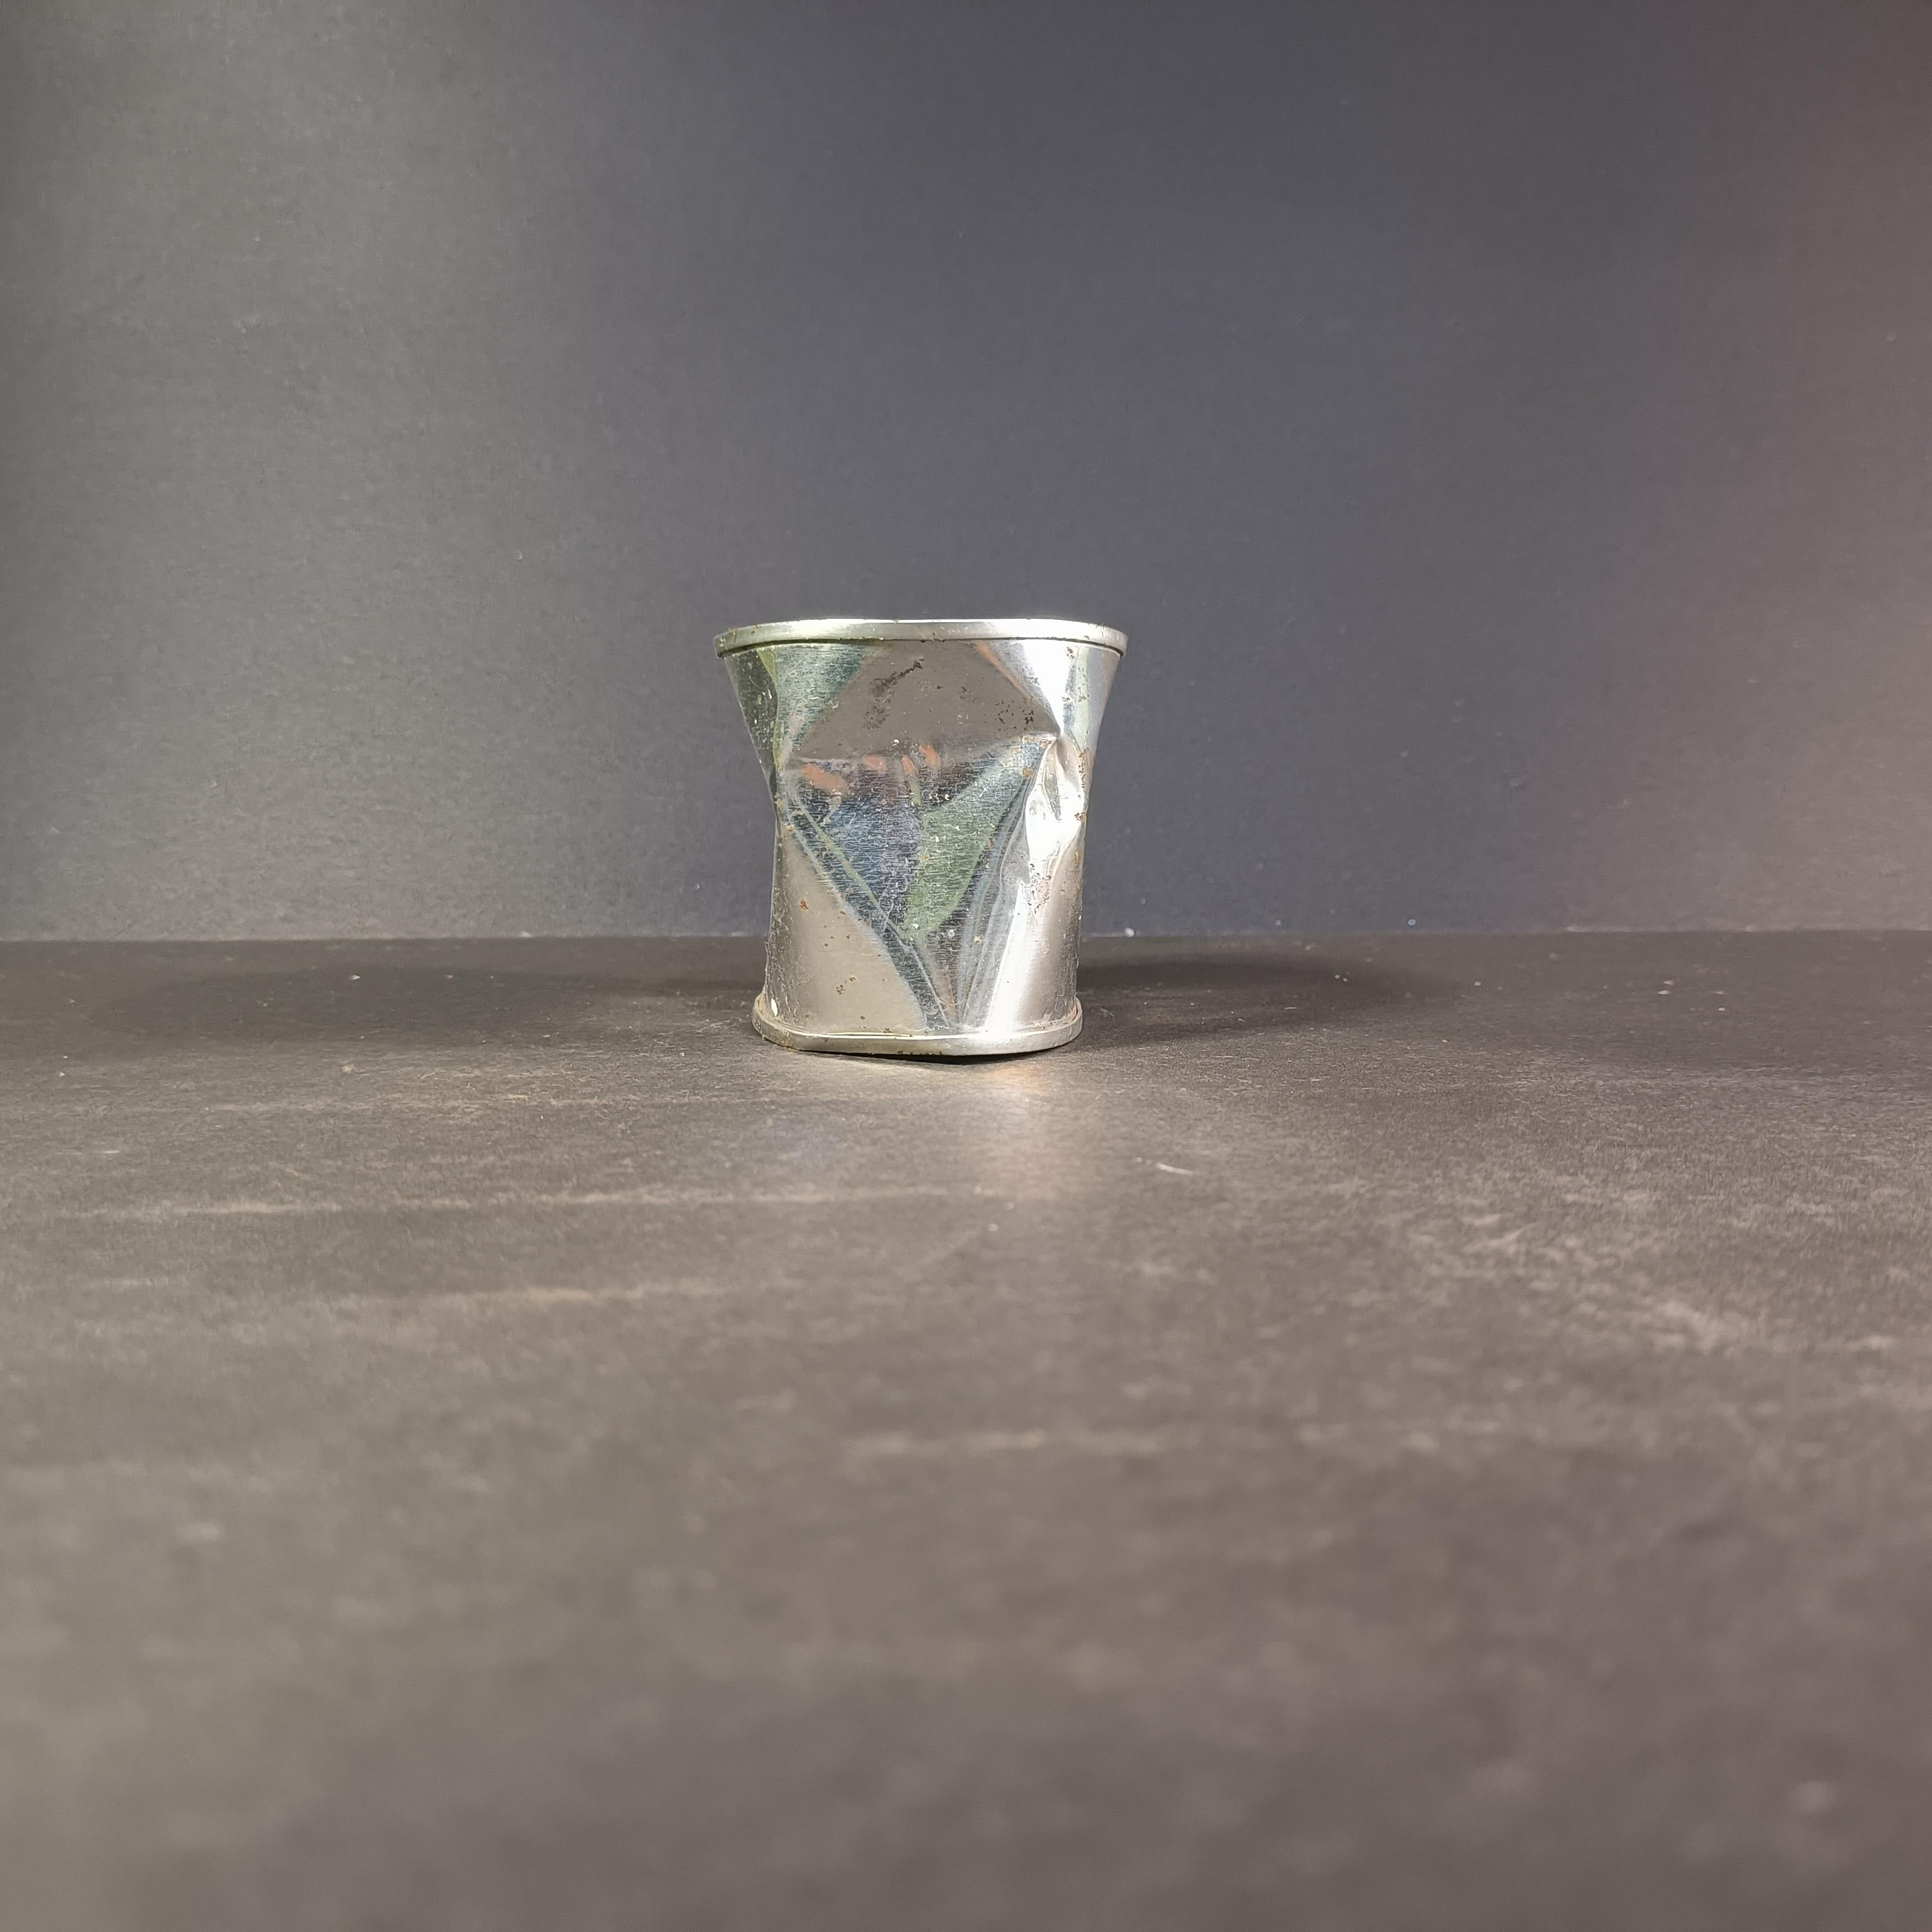Dented: (699, 579, 1152, 1093)
